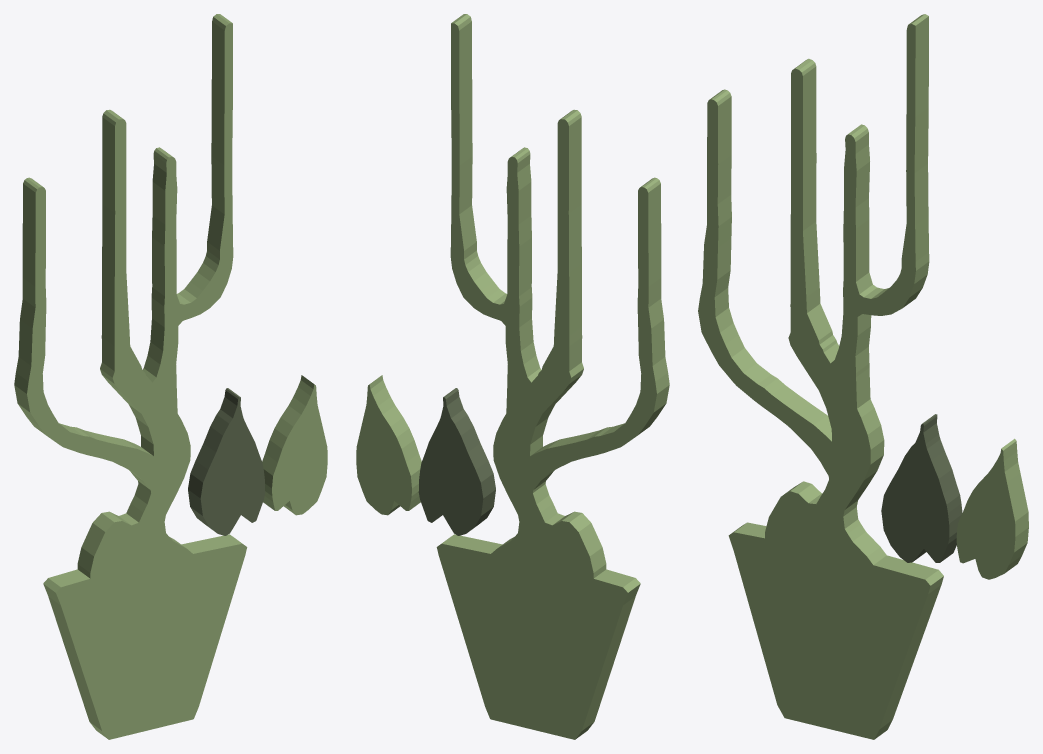
Rendered from Bonsai_1.fbx.
The picture shows the model from 3 angles, left to right: view 1: azimuth 30°, elevation 25°; view 2: azimuth 150°, elevation 25°; view 3: azimuth 330°, elevation 25°; orthographic projection. The views are drawn at different scales.
Visible parts, largest first — view 1: polySurface3, polySurface4, polySurface1; view 2: polySurface3, polySurface4, polySurface1; view 3: polySurface3, polySurface4, polySurface1.
Part boxes in pixels (box(x1,y1,x2,y2)): polySurface3: box(14, 14, 247, 739); polySurface4: box(188, 388, 265, 535); polySurface1: box(262, 375, 327, 515); polySurface3: box(436, 14, 669, 739); polySurface4: box(418, 388, 495, 535); polySurface1: box(356, 375, 421, 515); polySurface3: box(698, 14, 943, 739); polySurface4: box(881, 414, 962, 562); polySurface1: box(956, 438, 1028, 579).
Bounding box in the file's own units: 0.3909 × 0.8534 × 0.0287.
